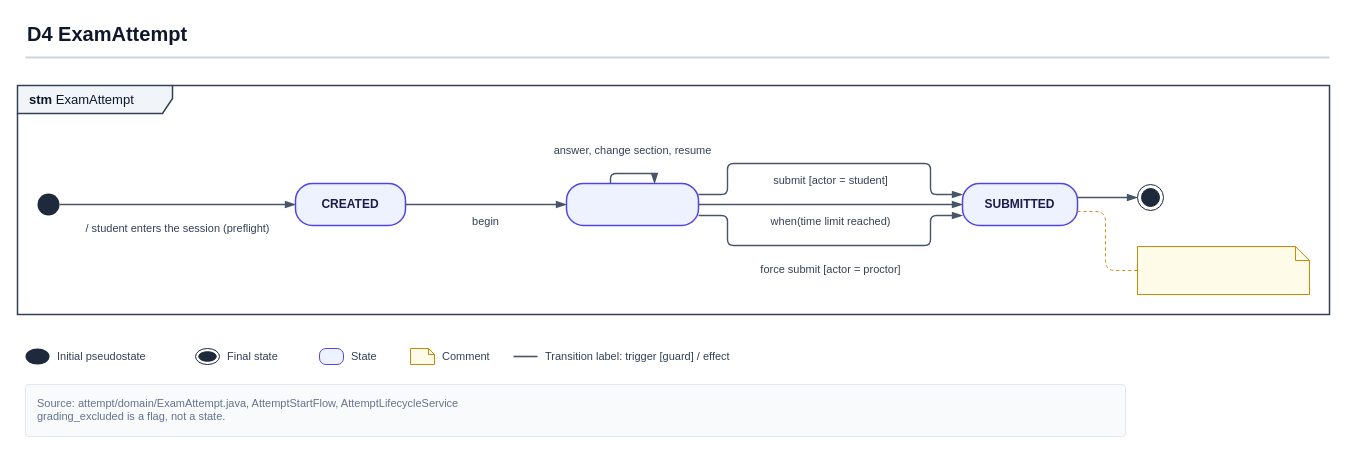
This 1348x454 diagram has some shape labels left out. Each missing label, with the centre of its shape:
"AttemptAnswer.status goes SUBMITTED to SCORED" belongs at (1223,270).
"IN_PROGRESS" belongs at (632,204).
